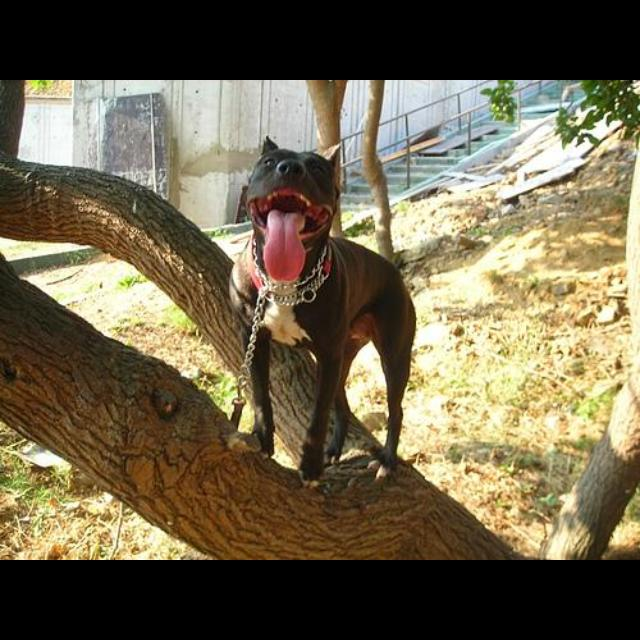amstaff: (228, 135, 417, 485)
